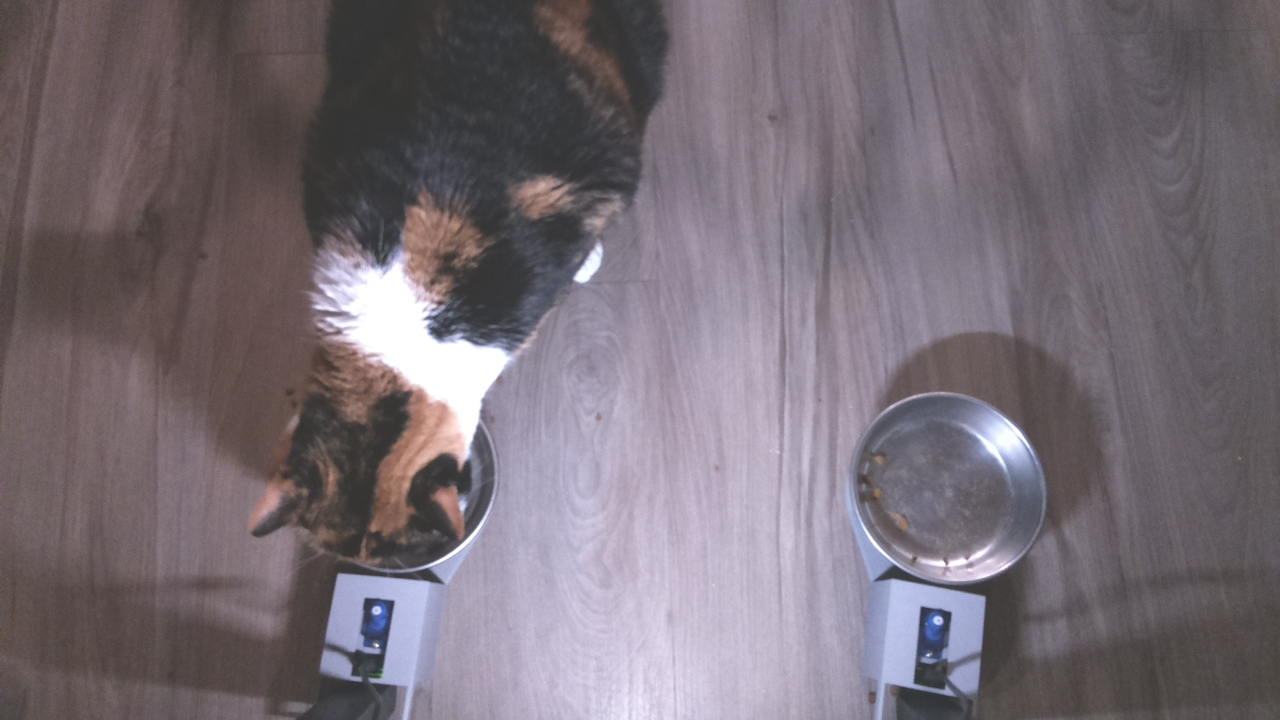bella_eating: (251, 272, 511, 578)
open_bowl: (848, 384, 1068, 587)
